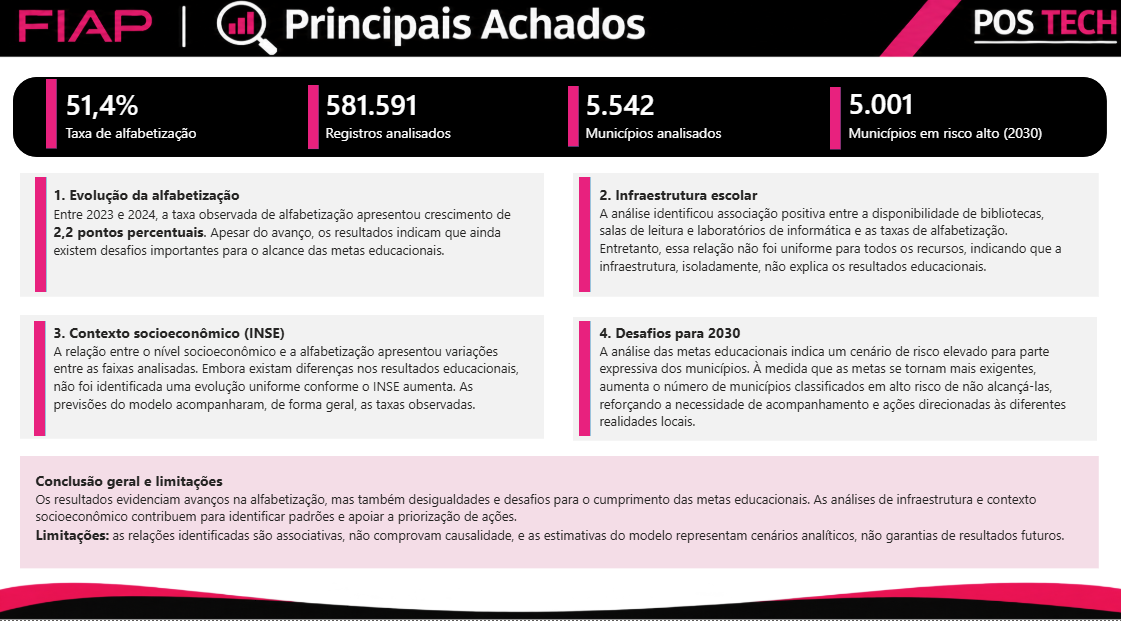

This screenshot's page, from the dashboard's own definition file:
{"tool":"powerbi","page":{"name":"Síntese dos resultados","canvas":[1280,720],"ordinal":4},"visuals":[{"type":"shape","box":[15.9,101.4,1246.3,91.1],"z":0},{"type":"shape","box":[653.9,374.8,597,141.3],"z":1000},{"type":"shape","box":[23.9,372.5,597,141.3],"z":2000},{"type":"shape","box":[23.9,210.8,597,141.3],"z":3000},{"type":"shape","box":[653.9,210.8,599.2,141.3],"z":4000},{"type":"shape","box":[24.3,533.6,1228.8,128],"z":5000},{"type":"cardVisual","fields":{"Data":["Panorama_Municipal.Taxa observada de alfabetização"]},"box":[46.4,83.2,299.1,118.7],"z":6000},{"type":"cardVisual","fields":{"Data":["Panorama_Municipal.Registros analisados"]},"box":[342.8,83.2,266.8,118.6],"z":7000},{"type":"cardVisual","fields":{"Data":["Panorama_Municipal.Municípios analisados"]},"box":[639.3,83.2,293.7,118.6],"z":8000},{"type":"cardVisual","fields":{"Data":["Panorama_Municipal.Municipios_Risco_Alto_2030_Exibicao"]},"box":[938.6,89.9,299.1,103.7],"z":9000},{"type":"textbox","box":[679,219.9,547,122.6],"z":10000},{"type":"textbox","box":[57,219.9,552.5,123],"z":11000},{"type":"textbox","box":[57,377.1,543.4,131],"z":12000},{"type":"textbox","box":[679,377.1,563.9,136.7],"z":13000},{"type":"textbox","box":[36.4,545.7,1205.9,106.4],"z":14000},{"type":"shape","box":[54,103.7,12.1,79.5],"z":15000},{"type":"shape","box":[351.8,110.4,12.1,72.8],"z":16000},{"type":"shape","box":[648.2,111.6,12.1,68.7],"z":17000},{"type":"shape","box":[946.2,113.1,12.1,71.4],"z":18000},{"type":"image","box":[0,676.7,1280.5,43.3],"z":19000},{"type":"image","box":[0,0,1280.5,86.6],"z":20000},{"type":"shape","box":[660.8,379.4,12.5,131],"z":21000},{"type":"shape","box":[660.8,215.3,12.5,131],"z":22000},{"type":"shape","box":[41,215.3,12.5,131],"z":23000},{"type":"shape","box":[39.9,379.4,12.5,131],"z":24000}]}

Visuals, with their boxes in screenshot pixels (x1, y1, x2, y2), scaled from the page's 1280x720 canvas onto the 1121x621 screenshot:
shape: l=14, t=87, r=1105, b=166
shape: l=573, t=323, r=1096, b=445
shape: l=21, t=321, r=544, b=443
shape: l=21, t=182, r=544, b=304
shape: l=573, t=182, r=1097, b=304
shape: l=21, t=460, r=1097, b=571
cardVisual - Panorama_Municipal.Taxa observada de alfabetização: l=41, t=72, r=303, b=174
cardVisual - Panorama_Municipal.Registros analisados: l=300, t=72, r=534, b=174
cardVisual - Panorama_Municipal.Municípios analisados: l=560, t=72, r=817, b=174
cardVisual - Panorama_Municipal.Municipios_Risco_Alto_2030_Exibicao: l=822, t=78, r=1084, b=167
textbox: l=595, t=190, r=1074, b=295
textbox: l=50, t=190, r=534, b=296
textbox: l=50, t=325, r=526, b=438
textbox: l=595, t=325, r=1089, b=443
textbox: l=32, t=471, r=1088, b=562
shape: l=47, t=89, r=58, b=158
shape: l=308, t=95, r=319, b=158
shape: l=568, t=96, r=578, b=156
shape: l=829, t=98, r=839, b=159
image: l=0, t=584, r=1120, b=620
image: l=0, t=0, r=1120, b=75
shape: l=579, t=327, r=590, b=440
shape: l=579, t=186, r=590, b=299
shape: l=36, t=186, r=47, b=299
shape: l=35, t=327, r=46, b=440
